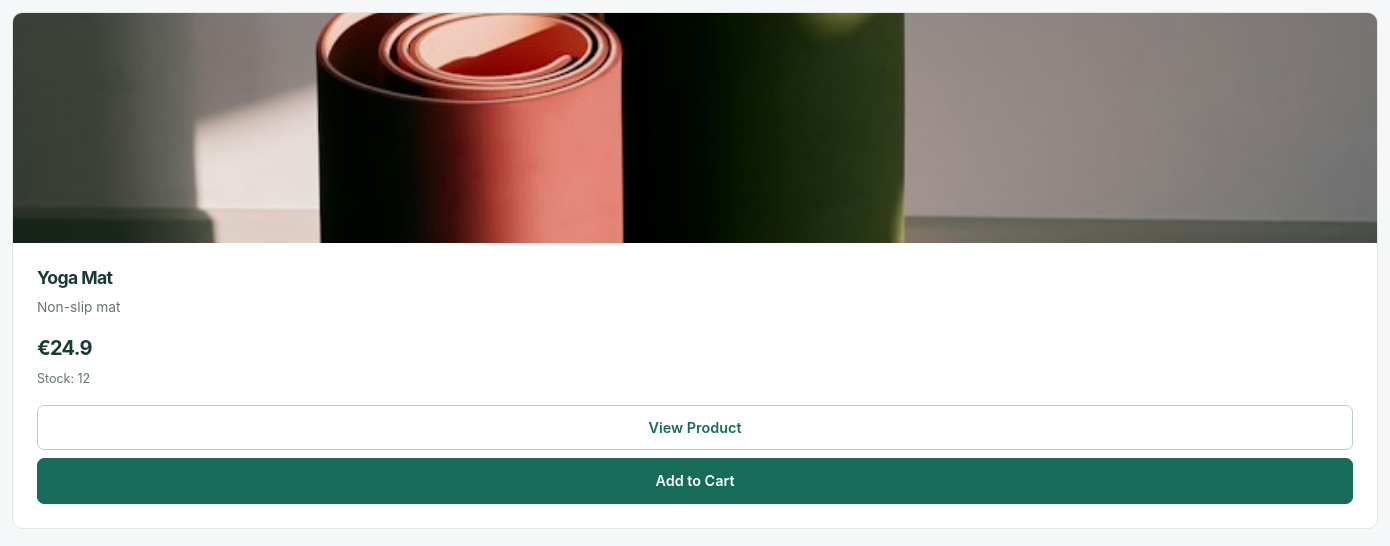
Test: ProductCard › sends logged-out visitors to the login page instead
The image size is (1390, 546).
Click the button "Add to Cart".
click(695, 481)  # box [37, 458, 1353, 504]
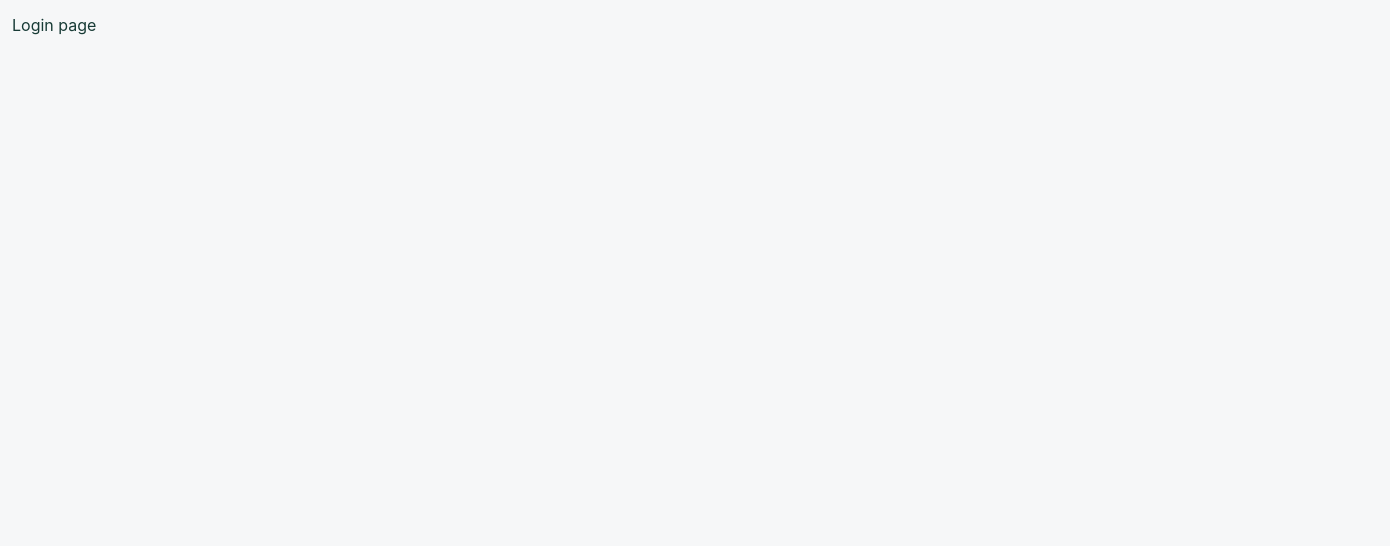
Expected: the text "Login page" is shown, [12, 15, 96, 35]
